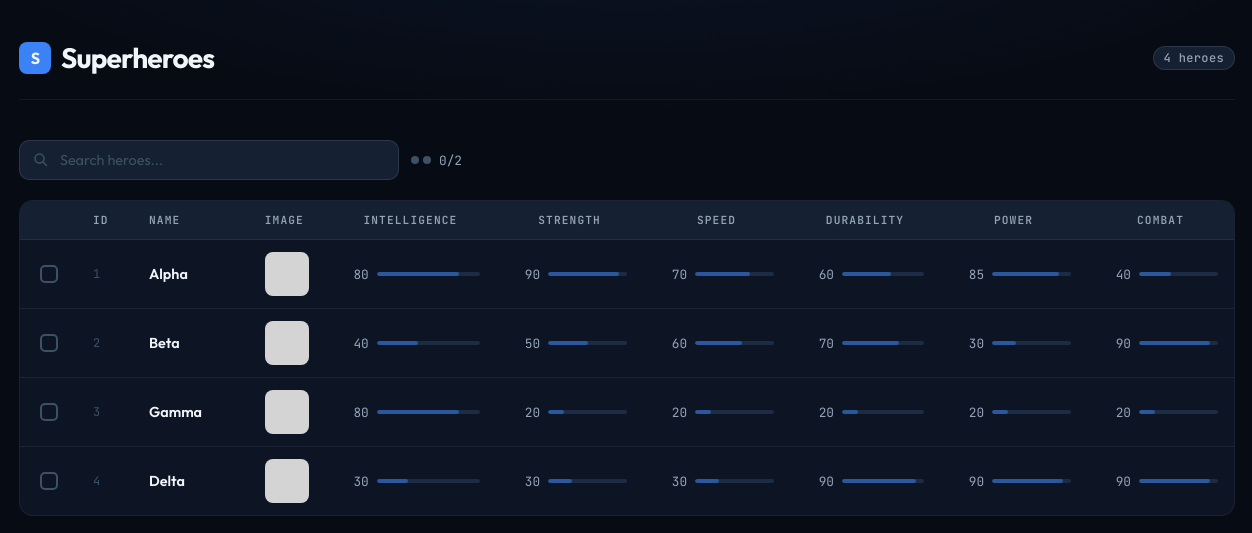
search input › partial match shows matching heroes
Type "ta" into the field with placeholder "Search heroes...".
click(209, 160); type("ta")  # box [19, 140, 399, 180]
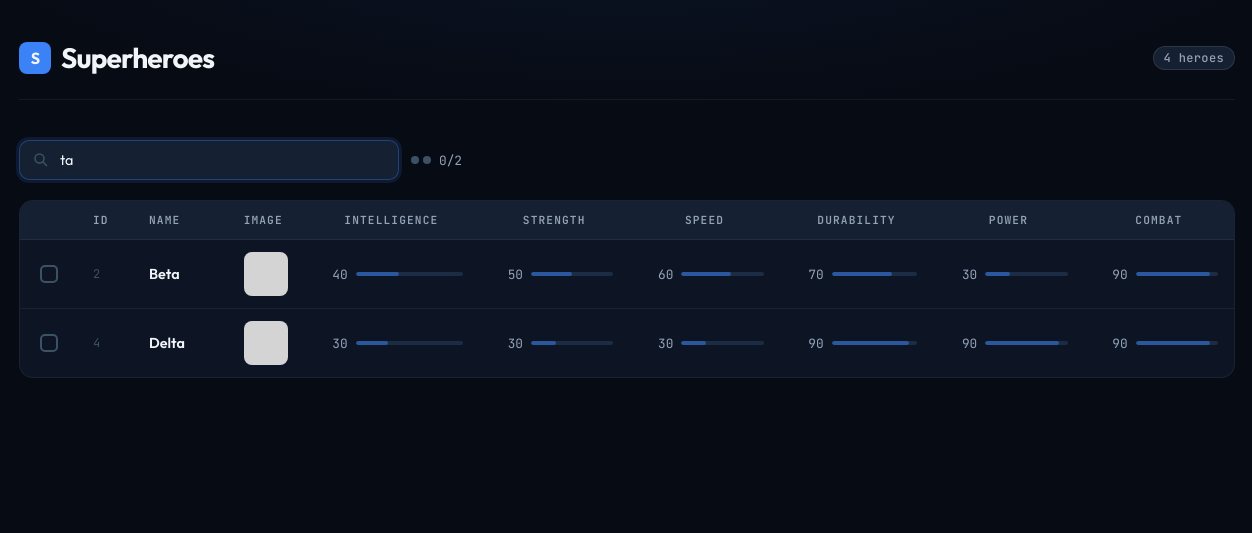
Expected: the text "Beta" is shown, [133, 240, 228, 308]
Now the text "Alpha" is gone
Now the text "Gamma" is gone
